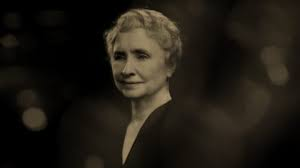No-Glasses: (106, 47, 157, 66)
